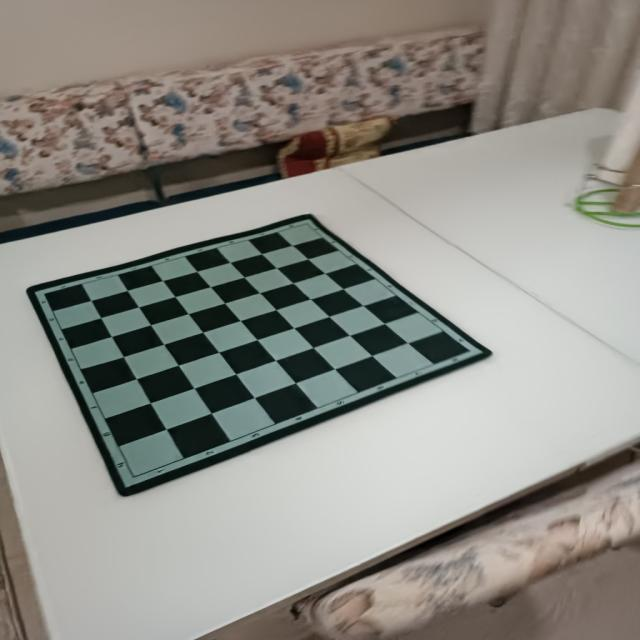chess-table-corners: (121, 470, 145, 490), (460, 346, 486, 358), (31, 286, 53, 300), (299, 216, 315, 228)
